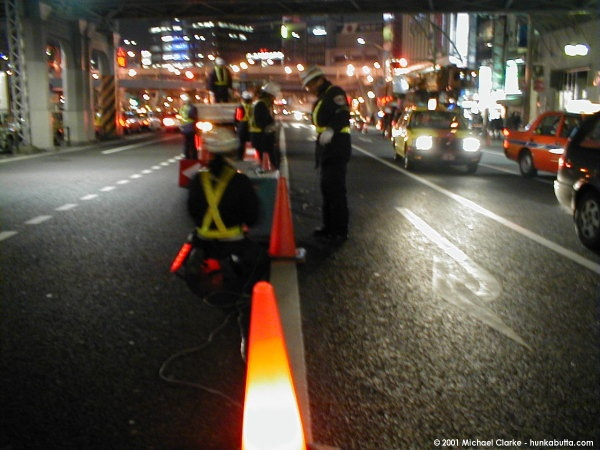white: (202, 125, 238, 166), (298, 63, 326, 93), (259, 80, 279, 101)
